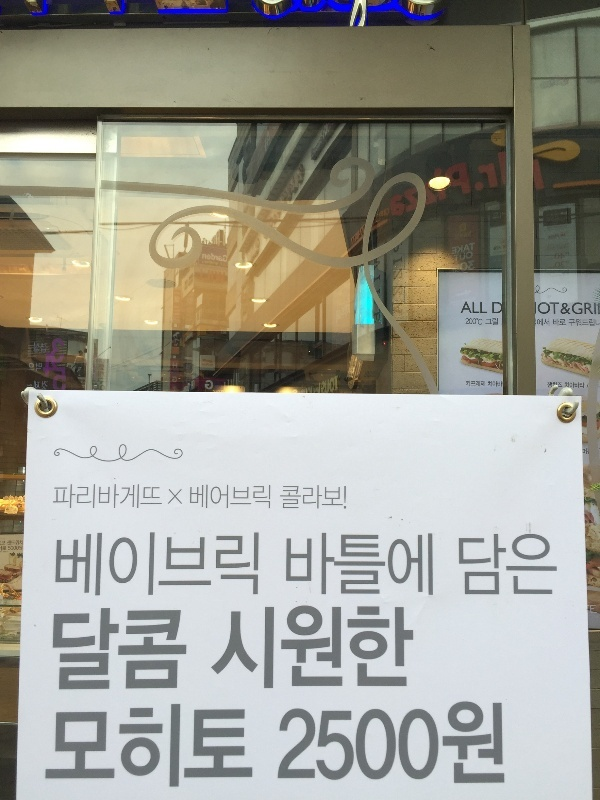text: (65, 702, 80, 797), (81, 702, 96, 797), (97, 702, 112, 797), (113, 702, 128, 797), (129, 702, 144, 797), (145, 702, 160, 797), (161, 702, 176, 797), (177, 702, 192, 797), (193, 702, 208, 797), (209, 702, 224, 797), (225, 702, 240, 797), (65, 605, 80, 691), (81, 605, 96, 691), (97, 605, 112, 691), (113, 605, 128, 691), (129, 605, 144, 691), (145, 605, 160, 691), (161, 605, 176, 691), (225, 607, 240, 691), (241, 607, 256, 691), (257, 607, 272, 691), (273, 607, 288, 691), (289, 607, 304, 691), (305, 607, 320, 691), (321, 607, 336, 691), (337, 607, 352, 691), (353, 607, 368, 691), (369, 607, 384, 691), (385, 607, 400, 691), (289, 701, 304, 785), (305, 701, 320, 785), (321, 701, 336, 785), (337, 701, 352, 785), (353, 701, 368, 785), (369, 701, 384, 785), (385, 701, 400, 785), (401, 701, 416, 785), (417, 701, 432, 785), (433, 701, 448, 785), (449, 701, 464, 785), (465, 701, 480, 785), (481, 701, 496, 785), (241, 702, 254, 797), (401, 137, 416, 219), (417, 137, 432, 219), (433, 137, 448, 219), (449, 137, 464, 219), (465, 137, 480, 219), (481, 137, 496, 219), (273, 161, 288, 240), (289, 161, 304, 240), (52, 702, 64, 797), (401, 607, 414, 691), (465, 531, 480, 596), (481, 531, 496, 596), (497, 531, 512, 596), (513, 531, 528, 596), (529, 531, 544, 596), (289, 532, 304, 596), (305, 532, 320, 596), (321, 532, 336, 596), (337, 532, 352, 596), (353, 532, 368, 596), (369, 532, 384, 596), (385, 532, 400, 596), (401, 532, 416, 596), (417, 532, 432, 596), (65, 533, 80, 596), (81, 533, 96, 596), (97, 533, 112, 596), (113, 533, 128, 596), (129, 533, 144, 596), (145, 533, 160, 596), (161, 533, 176, 596), (177, 533, 192, 596), (193, 533, 208, 596), (209, 533, 224, 596), (225, 533, 240, 596), (241, 533, 256, 596), (545, 531, 559, 596), (54, 605, 64, 691), (177, 605, 187, 691), (50, 338, 64, 391), (391, 137, 400, 219), (497, 137, 506, 219), (263, 161, 272, 240), (321, 119, 337, 162), (497, 701, 505, 785), (281, 701, 288, 785), (392, 242, 400, 315), (65, 484, 80, 515), (81, 484, 96, 515), (97, 484, 112, 515), (113, 484, 128, 515), (129, 484, 144, 515), (145, 484, 160, 515), (57, 533, 64, 596), (33, 1, 48, 30), (49, 1, 64, 30), (65, 1, 80, 30), (81, 1, 96, 30), (97, 1, 112, 30), (113, 1, 128, 30), (129, 1, 144, 30), (145, 1, 160, 30), (161, 1, 176, 30), (177, 1, 192, 30), (193, 1, 208, 30), (209, 1, 224, 30), (225, 1, 240, 30), (241, 1, 256, 30), (257, 1, 272, 30), (273, 1, 288, 30), (289, 1, 304, 30), (305, 1, 320, 30), (321, 1, 336, 30), (337, 1, 352, 30), (353, 1, 368, 30), (369, 1, 384, 30), (385, 1, 400, 30), (401, 1, 416, 30), (417, 1, 432, 30), (374, 258, 384, 300), (311, 119, 320, 162), (245, 234, 256, 269), (193, 485, 208, 510), (209, 485, 224, 510), (225, 485, 240, 510), (241, 485, 256, 510), (289, 486, 304, 510), (305, 486, 320, 510), (321, 486, 336, 510), (98, 365, 112, 390), (257, 485, 271, 510), (534, 159, 544, 192), (459, 531, 464, 596), (433, 1, 444, 30), (353, 222, 366, 246), (55, 484, 64, 515), (305, 376, 320, 394), (321, 376, 336, 394), (49, 352, 58, 381), (374, 301, 384, 326), (337, 486, 346, 510), (465, 301, 480, 314), (545, 301, 560, 314), (257, 533, 260, 596), (265, 127, 272, 153), (561, 303, 576, 315), (577, 302, 592, 314), (281, 486, 288, 510), (33, 380, 48, 391), (451, 243, 464, 255), (34, 343, 48, 354), (209, 253, 224, 263), (401, 242, 403, 315), (465, 243, 475, 255), (369, 371, 381, 381), (577, 319, 592, 327), (28, 1, 32, 30), (466, 317, 480, 325), (169, 489, 176, 505), (33, 362, 43, 373), (535, 302, 544, 314), (65, 338, 67, 391), (454, 252, 464, 262), (465, 260, 475, 270), (172, 363, 176, 385), (593, 302, 600, 314), (185, 332, 192, 344), (455, 231, 464, 240), (465, 252, 473, 262), (486, 319, 496, 327), (177, 489, 182, 505), (481, 301, 487, 314), (538, 301, 544, 314), (467, 381, 480, 387), (547, 382, 560, 388), (1, 546, 16, 551), (300, 376, 304, 394), (257, 234, 259, 269), (565, 383, 576, 389), (549, 234, 560, 240), (3, 546, 16, 551), (287, 532, 288, 596), (433, 532, 434, 596), (465, 231, 472, 240), (535, 319, 544, 326), (202, 253, 208, 263), (46, 352, 48, 381), (553, 319, 560, 327), (569, 319, 576, 327), (488, 381, 496, 388), (497, 303, 502, 314), (209, 380, 214, 391), (27, 380, 32, 391), (583, 449, 592, 455), (215, 382, 224, 388), (379, 208, 384, 218), (572, 302, 576, 314), (577, 383, 585, 389), (188, 380, 192, 392), (173, 332, 176, 348), (177, 332, 180, 348), (503, 244, 512, 249), (561, 233, 576, 236), (7, 541, 16, 546), (1, 542, 16, 545), (492, 303, 496, 314), (538, 319, 544, 326), (2, 542, 16, 545), (385, 208, 389, 218), (561, 319, 566, 327), (8, 546, 16, 551), (545, 319, 550, 326), (497, 381, 502, 388), (205, 380, 208, 391), (29, 362, 32, 373), (497, 212, 501, 220), (593, 605, 597, 613), (161, 484, 162, 515), (461, 260, 464, 270), (555, 253, 560, 259), (365, 371, 368, 381), (17, 541, 23, 546), (17, 546, 23, 551), (556, 262, 560, 269), (561, 262, 565, 269), (203, 358, 208, 363), (191, 485, 192, 510), (351, 222, 352, 246), (493, 212, 496, 220), (561, 253, 565, 259), (596, 319, 600, 325), (588, 449, 592, 455), (481, 381, 485, 387), (202, 363, 208, 367), (587, 384, 592, 388), (209, 358, 213, 363), (225, 253, 227, 263), (337, 376, 338, 394), (481, 317, 483, 325), (497, 319, 499, 327), (497, 246, 501, 250), (593, 319, 595, 327), (590, 605, 592, 613), (209, 363, 213, 367), (193, 380, 194, 392), (561, 382, 563, 388), (494, 246, 496, 250)
